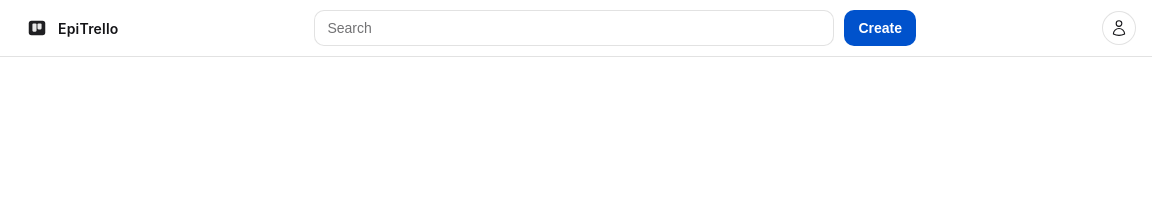
it: components/TopBar › clicking inside theme menu does not close menu
Click the button named "profile" at point(1119, 28), box [1102,11,1136,45]
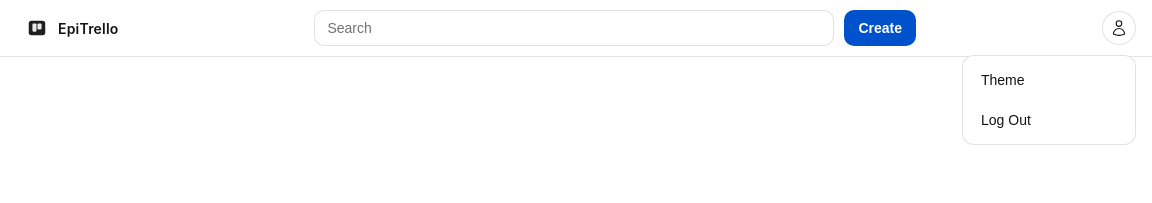
Click the button "Theme" at point(1049, 80), box [969,62,1129,98]
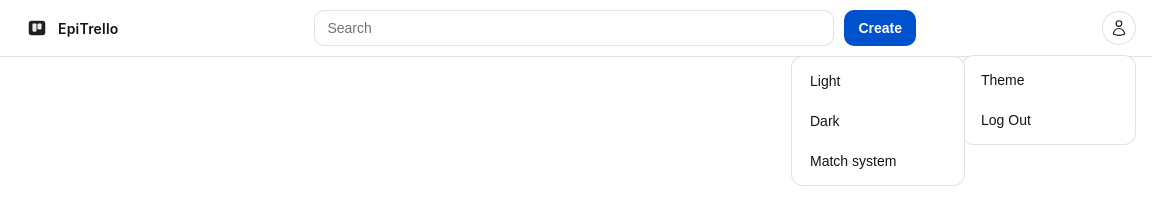
Check: the button "Theme" is shown, box [969,62,1129,98]
Check: the button "Match system" is shown, box [798,143,958,179]
